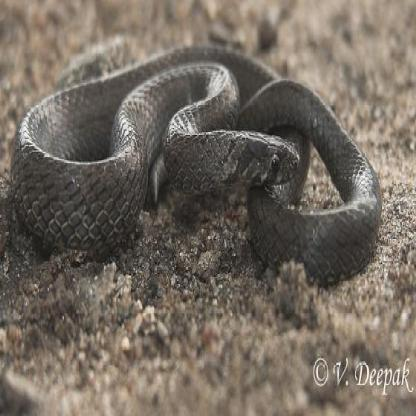snakes: (4, 30, 391, 286)
